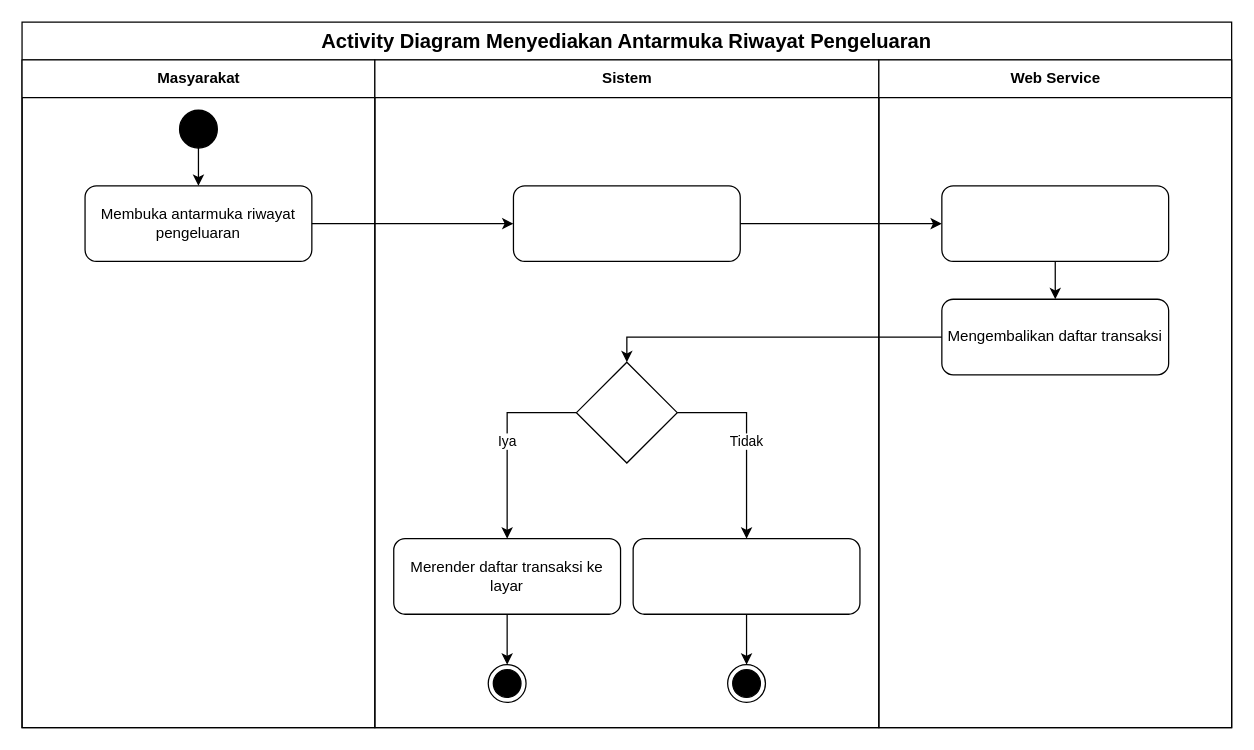
Some shapes in this 1254 by 750 pixel diagram are drawn without their labels. Here are the shapes that lost their labels. From the top down, the centre of each, then its label:
(626,223): Meminta daftar riwayat pengeluaran
(1055,223): Memvalidasi akses & mengambil data
(626,412): Data Ada?
(746,575): Menampilkan status kosong
